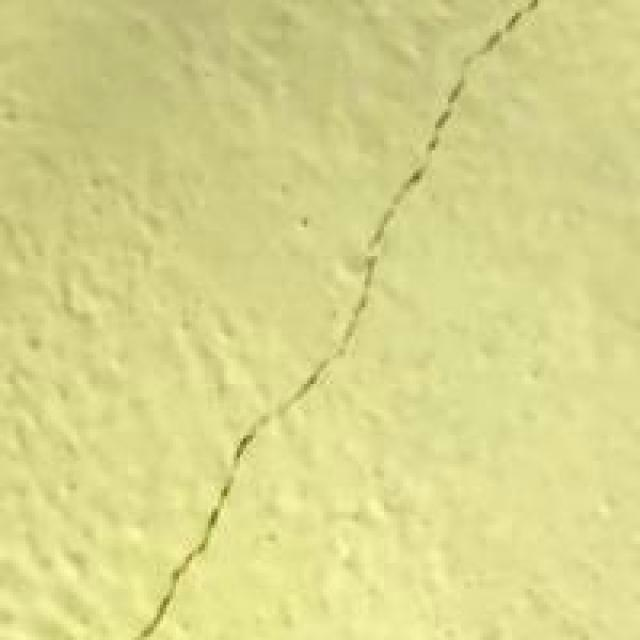SurfaceCrack: (114, 0, 550, 638)
